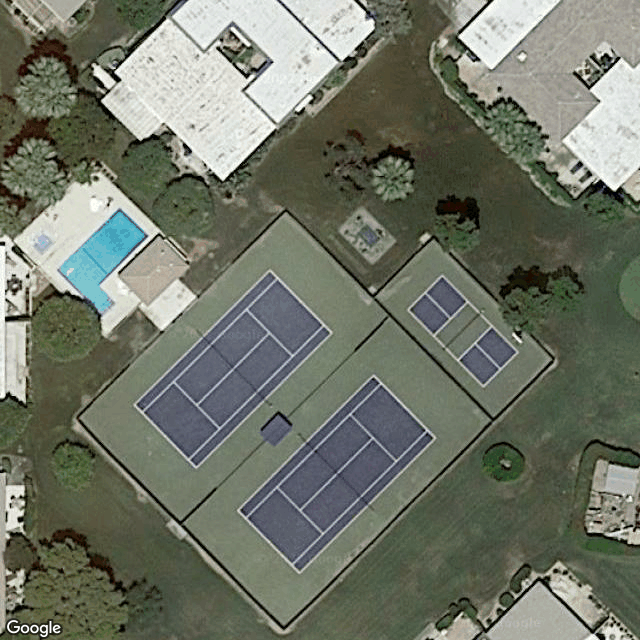Court: (237, 374, 436, 575), (133, 269, 332, 467)
